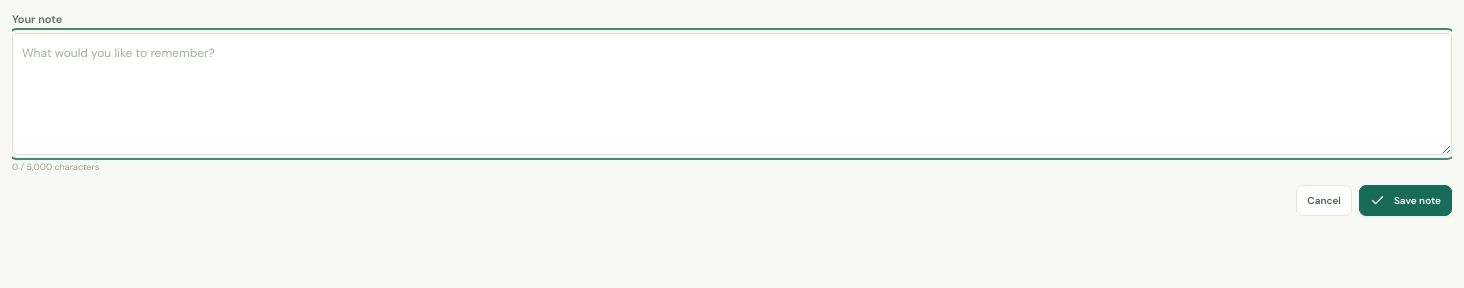
Test: private note editing › keeps the draft after a rejected save and retries the same content
The width and height of the screenshot is (1464, 288).
Later steps or results of the test are not shown.
Type "Review the key idea." into the text box labelled "Your note" at {"x": 732, "y": 94}, box left=12, top=33, right=1452, bottom=155
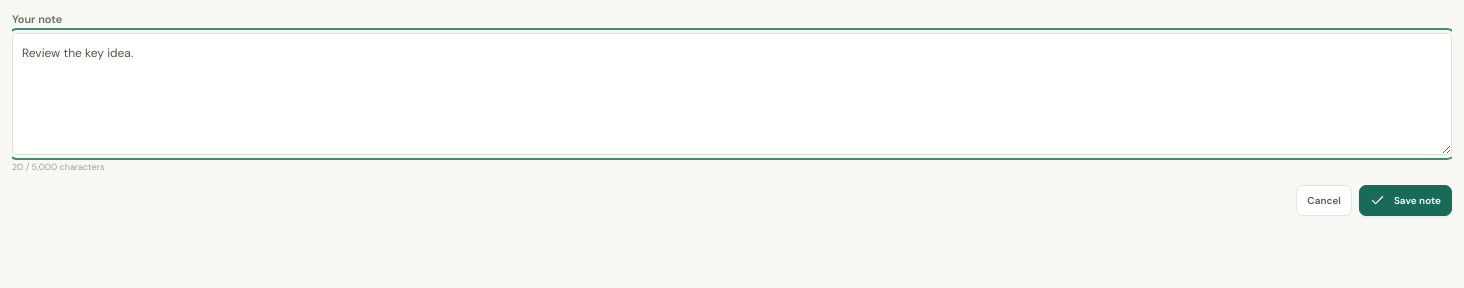
Click the button "Save note" at {"x": 1405, "y": 200}, box left=1359, top=185, right=1452, bottom=216
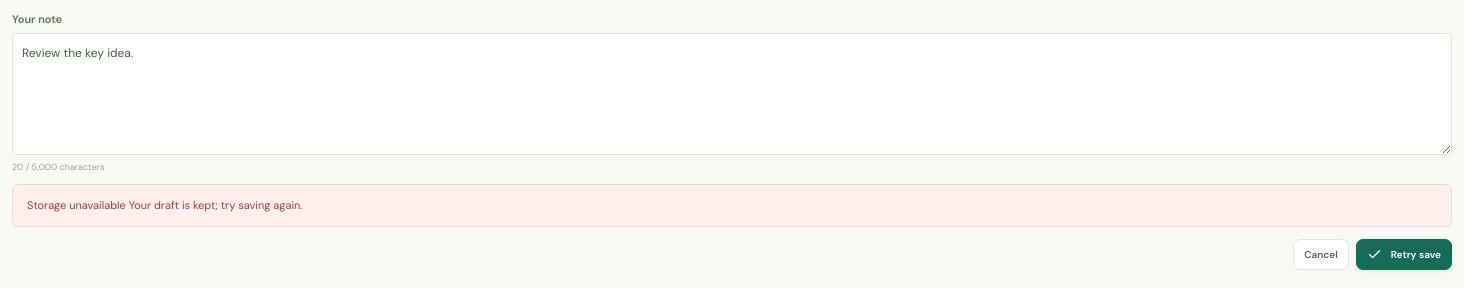
Now the message shows "Your draft is kept", box left=126, top=198, right=303, bottom=212
